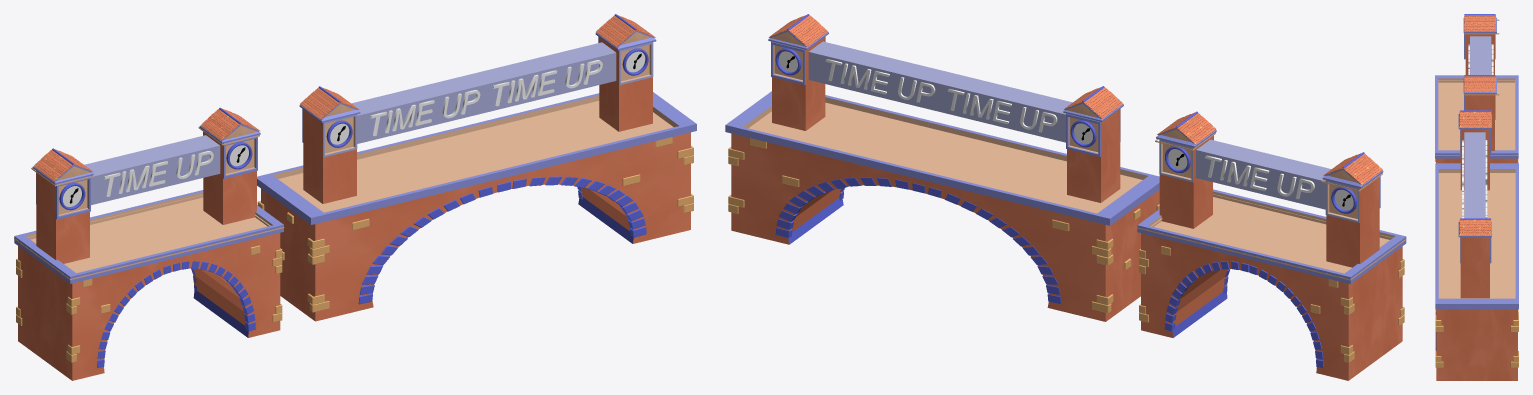
Rendered from bridges_lv3.fbx.
3 views of the same model, side by side, from view 1: azimuth 30°, elevation 25°; view 2: azimuth 150°, elevation 25°; view 3: azimuth 270°, elevation 25° (orthographic). The views are drawn at different scales.
Parts seen in each view (by area): view 1: longbridge_lv3, bridge_lv3; view 2: longbridge_lv3, bridge_lv3; view 3: longbridge_lv3, bridge_lv3.
Boxes of the visible parts, bbox=[...] form: longbridge_lv3: bbox=[257, 14, 696, 321]; bridge_lv3: bbox=[14, 107, 284, 380]; longbridge_lv3: bbox=[725, 14, 1159, 321]; bridge_lv3: bbox=[1137, 111, 1406, 380]; longbridge_lv3: bbox=[1435, 110, 1518, 380]; bridge_lv3: bbox=[1435, 14, 1518, 163].
Bounding box in the file's own units: 4170 × 1263 × 647.
